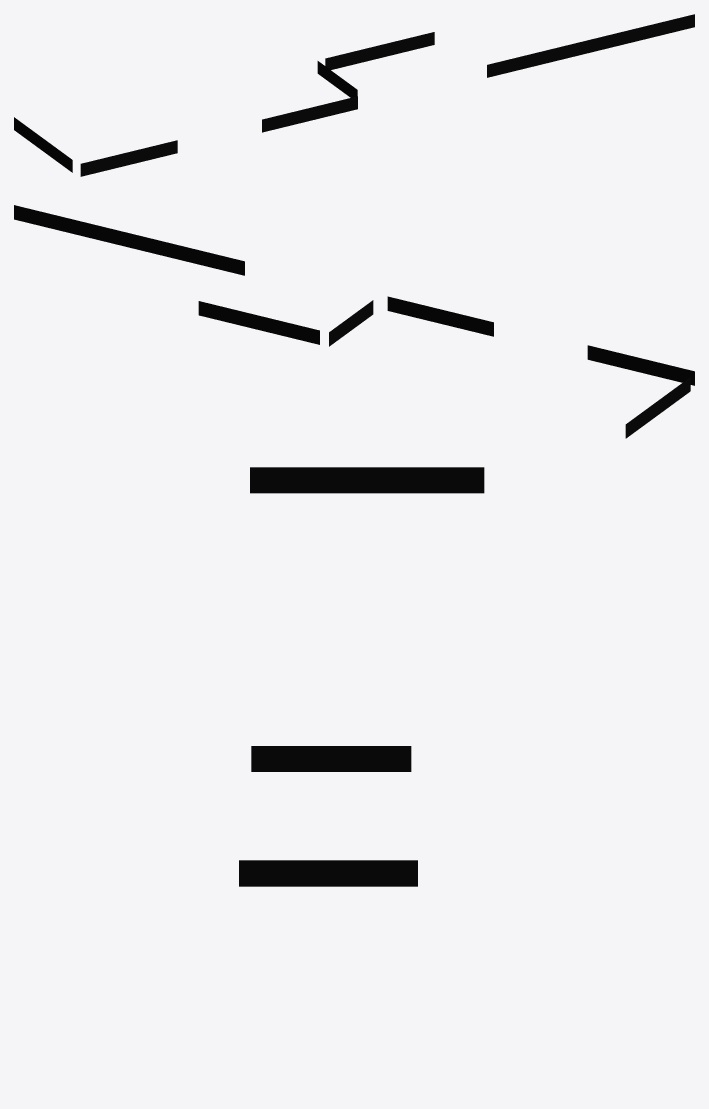
File: LAKETOWN_PUB_PS_PUB_GRIME96377.fbx
3 views of the same model, one above another, from view 1: azimuth 30°, elevation 25°; view 2: azimuth 150°, elevation 25°; view 3: azimuth 270°, elevation 25° (orthographic). The views are drawn at different scales.
Parts seen in each view (by area): view 1: LAKETOWN_PUB_PS_PUB_GRIME96377; view 2: LAKETOWN_PUB_PS_PUB_GRIME96377; view 3: LAKETOWN_PUB_PS_PUB_GRIME96377.
Part boxes in pixels (box(x1,y1,x2,y2)): LAKETOWN_PUB_PS_PUB_GRIME96377: box(14, 14, 694, 176); LAKETOWN_PUB_PS_PUB_GRIME96377: box(14, 205, 694, 438); LAKETOWN_PUB_PS_PUB_GRIME96377: box(239, 467, 484, 886).
Size of the model in its own units: 152200 by 3078 by 27743.
1 material, 1 textured.
